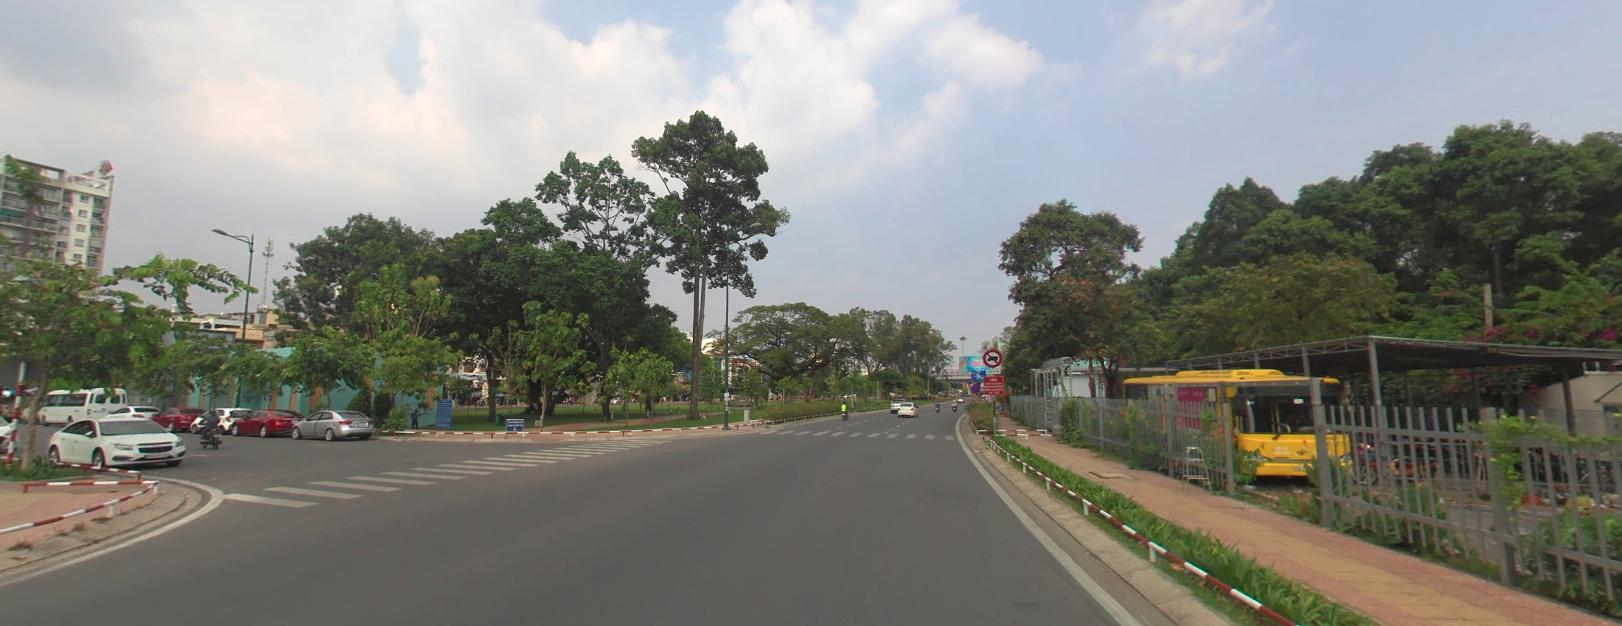Cam con lai: (982, 346, 1001, 365)
Cam dung va do: (969, 381, 980, 392)
